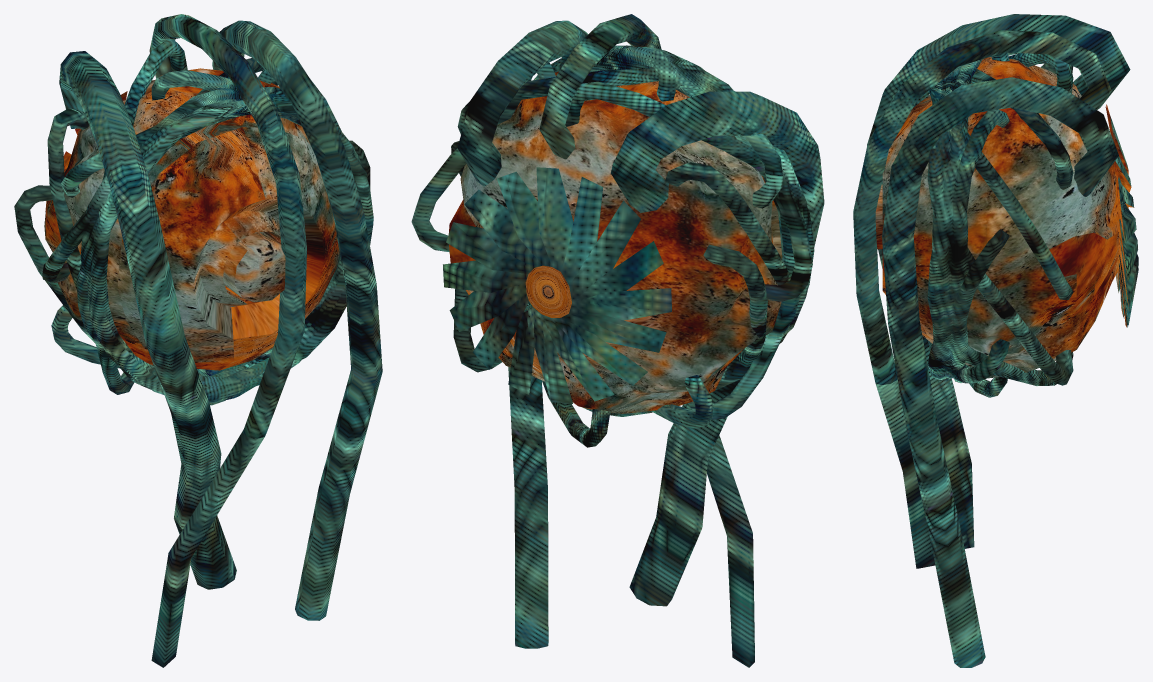
File: modmodel_OPTIC_AGENT.glb
3 views of the same model, side by side, from view 1: azimuth 30°, elevation 25°; view 2: azimuth 150°, elevation 25°; view 3: azimuth 270°, elevation 25° (orthographic). The views are drawn at different scales.
Visible parts, largest first — view 1: main; view 2: main; view 3: main.
Boxes of the visible parts, <box> form: main: <box>14,14,382,667</box>; main: <box>411,14,824,667</box>; main: <box>853,14,1138,667</box>.
Bounding box in the file's own units: 1.86 × 3.27 × 1.43.
Materials: 2 (2 with a texture image).
